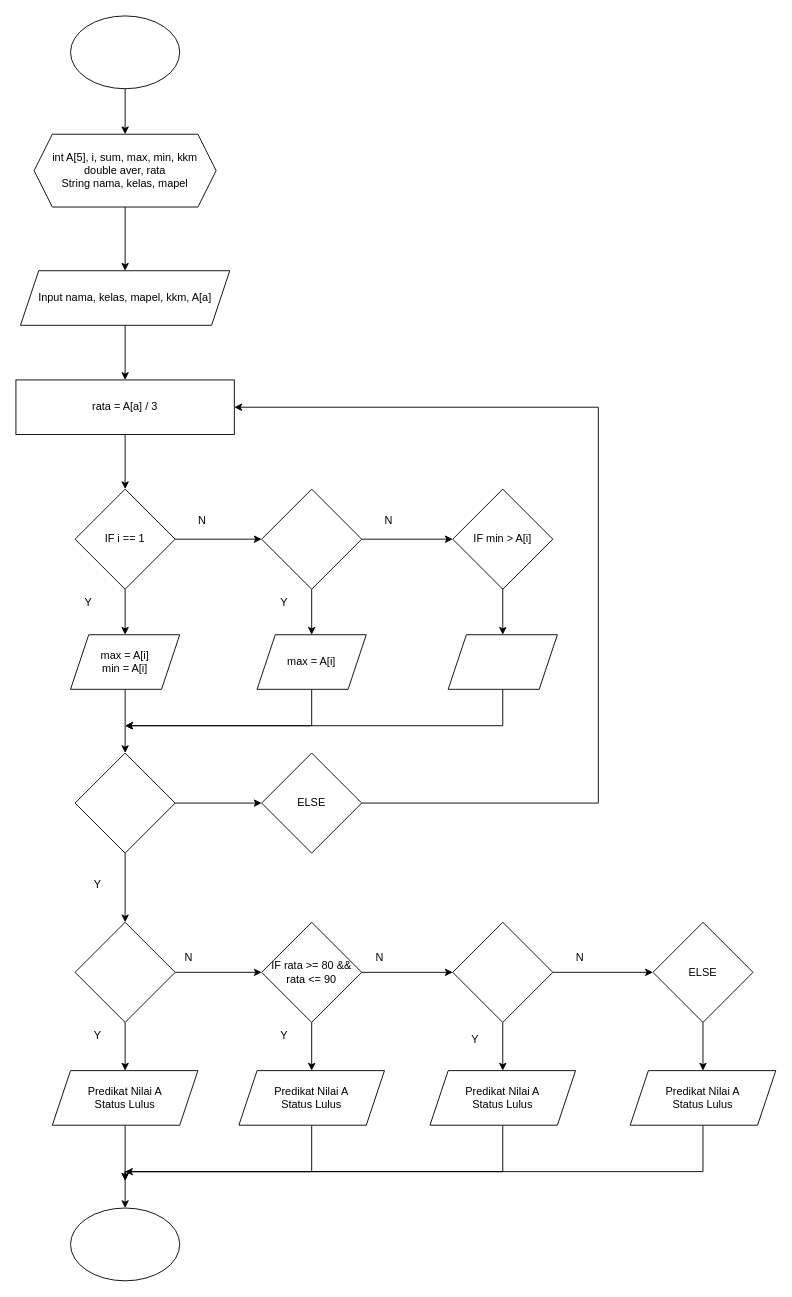
The diagram is 792 pixels wide and 1297 high, and some of its shapes have lost their labels. Here are the shapes that lost their labels. From the top down, the box of each, then its label:
(70, 15, 180, 89): START
(261, 488, 362, 589): IF max < A[i]
(447, 634, 557, 689): min = A[i]
(74, 752, 175, 853): IF rata >= kkm
(74, 921, 175, 1022): IF rata >= 91 && rata <= 100
(452, 921, 553, 1022): IF rata >= 60 && rata <= 79
(70, 1207, 180, 1281): END
